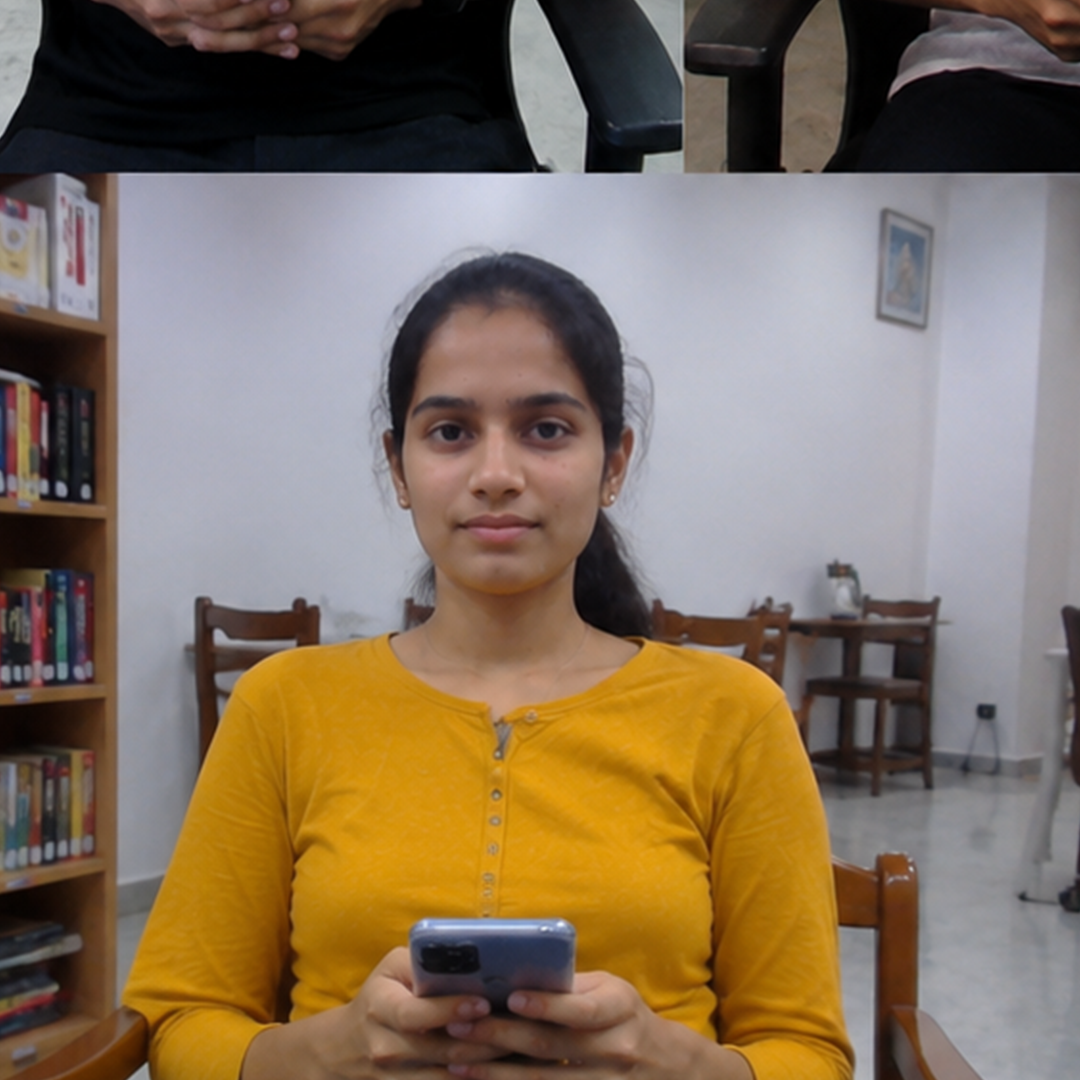Focused: (186, 181, 803, 1055)
